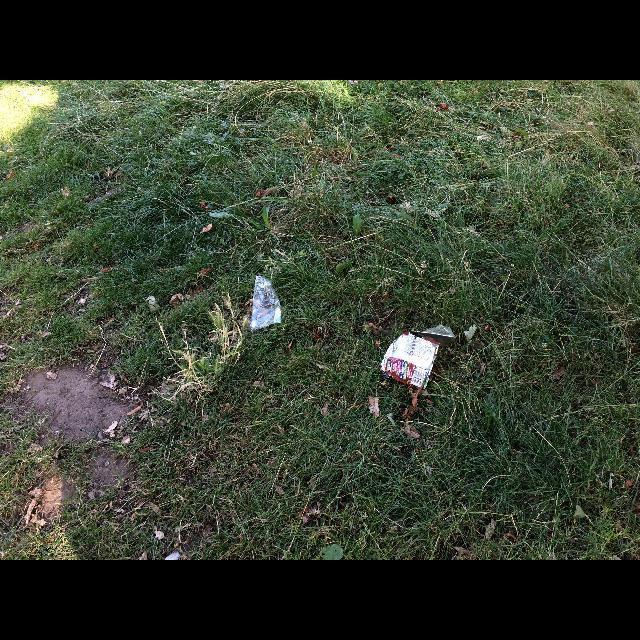Plastic: (381, 324, 455, 390), (250, 276, 280, 334)
